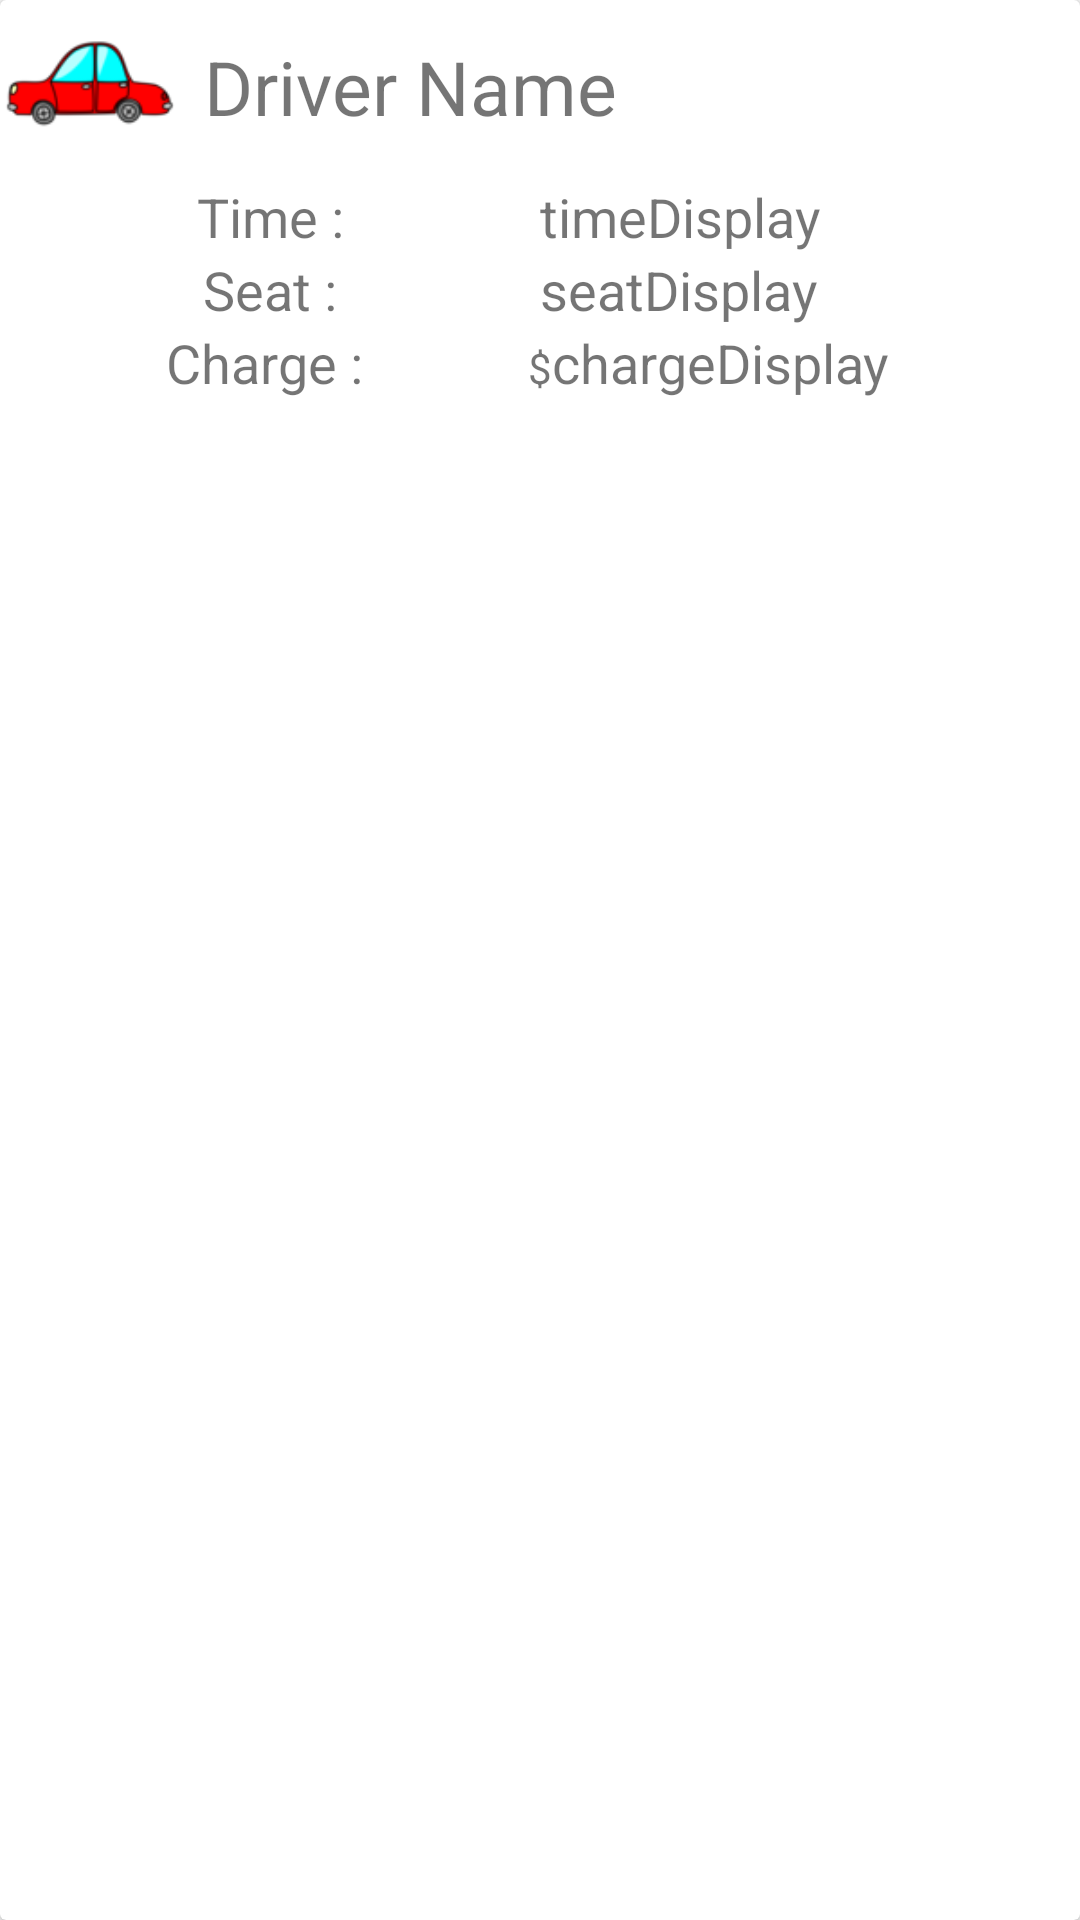

Named icons in this screenshot (1080*1920) and their bounding boxes, box(x1, y1, x2, y2):
car: box(0, 0, 173, 126)
